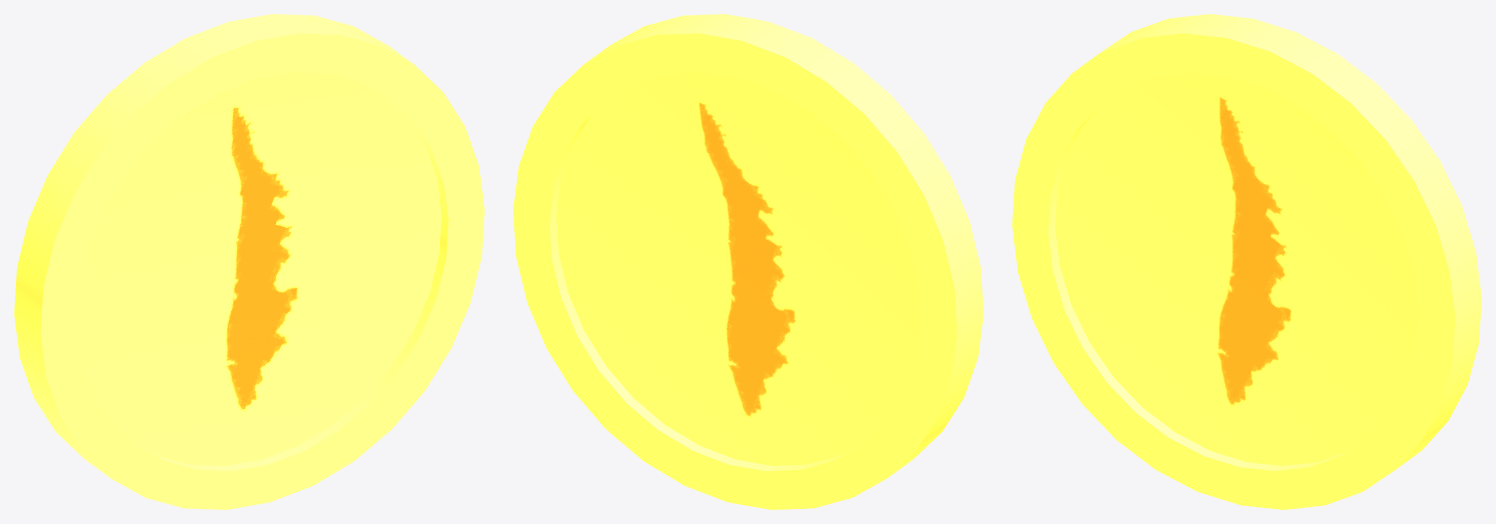
File: Coin1.fbx
3 renders of one model, left to right at view 1: azimuth 30°, elevation 25°; view 2: azimuth 150°, elevation 25°; view 3: azimuth 330°, elevation 25°, orthographic.
Visible parts, largest first — view 1: Cylinder; view 2: Cylinder; view 3: Cylinder.
Part boxes in pixels (x1,y1,x2,y2): Cylinder: (14, 14, 484, 509); Cylinder: (513, 14, 983, 509); Cylinder: (1012, 14, 1481, 509).
Size of the model in its own units: 200 by 200 by 20.63.
Materials: 1 (1 with a texture image).
